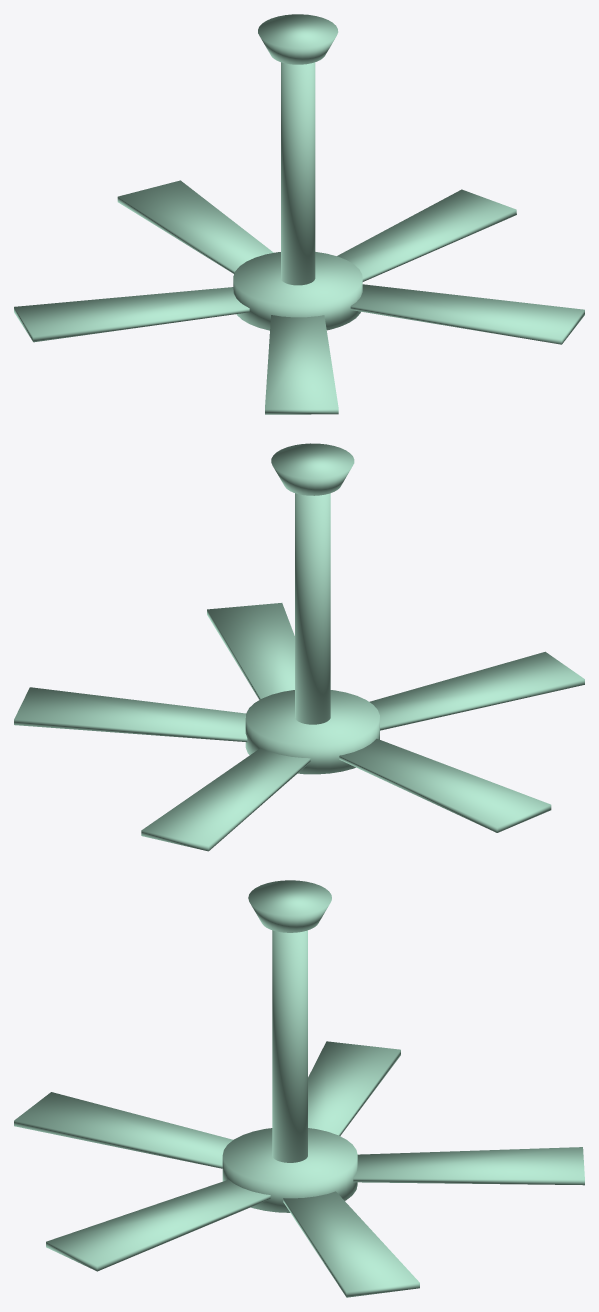
Rendered from ceiling_fan_pool.glb.
3 renders of one model, top to bottom at view 1: azimuth 30°, elevation 25°; view 2: azimuth 150°, elevation 25°; view 3: azimuth 270°, elevation 25°, orthographic. The views are drawn at different scales.
Visible parts, largest first — view 1: FAN; view 2: FAN; view 3: FAN.
Boxes of the visible parts, bbox=[...] form: FAN: bbox=[14, 14, 584, 414]; FAN: bbox=[14, 443, 584, 851]; FAN: bbox=[14, 880, 584, 1297].
Bounding box in the file's own units: 6.3 × 3.36 × 6.06.
